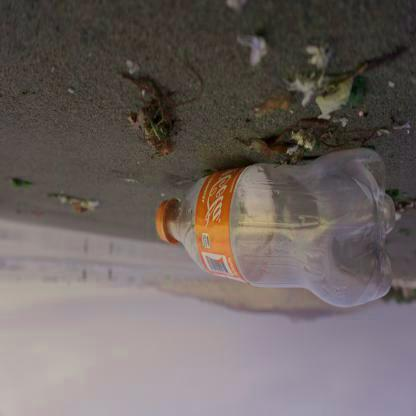Plastic: (154, 141, 398, 310)
